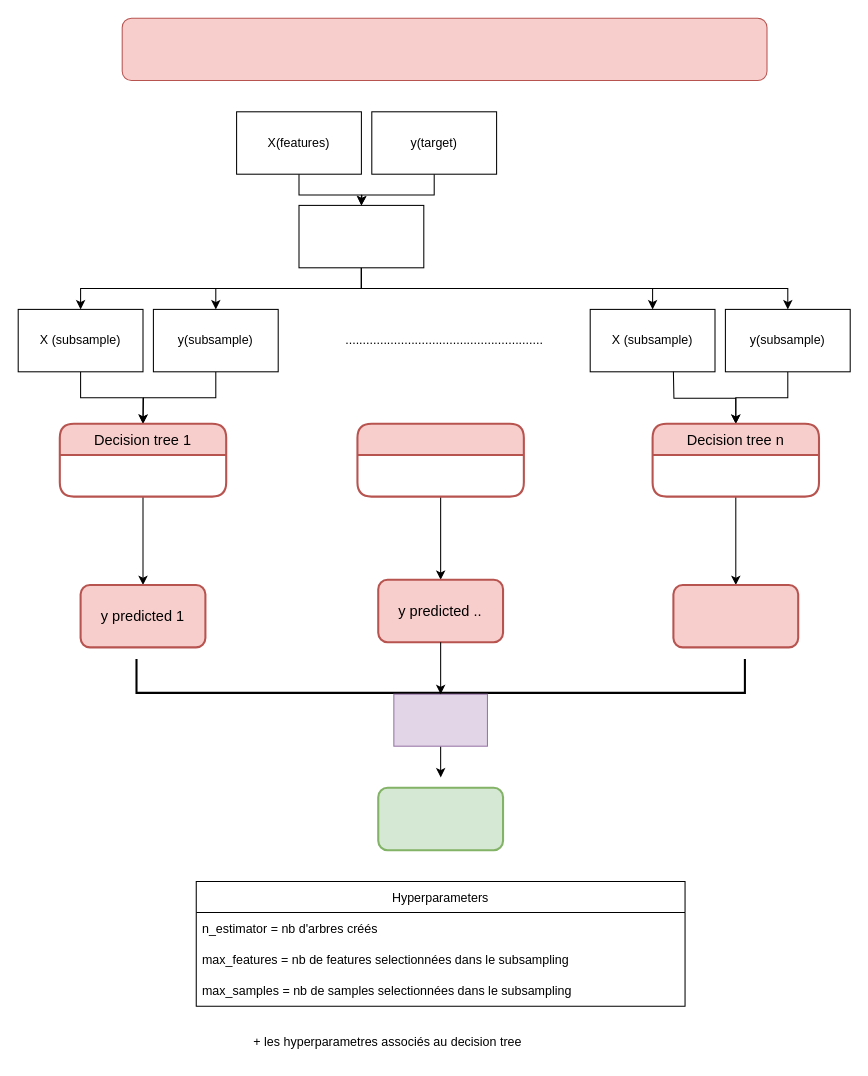
This 868x1076 diagram has some shape labels left out. The centre of each missing label's shape, as x and y in pixels:
"Decision tree ..." belongs at [440,459].
"Random Forest" belongs at [444,49].
"Subsampling" belongs at [361,236].
"Voting step" belongs at [440,719].
"y predicted" belongs at [440,818].
"y predicted n" belongs at [735,615].
